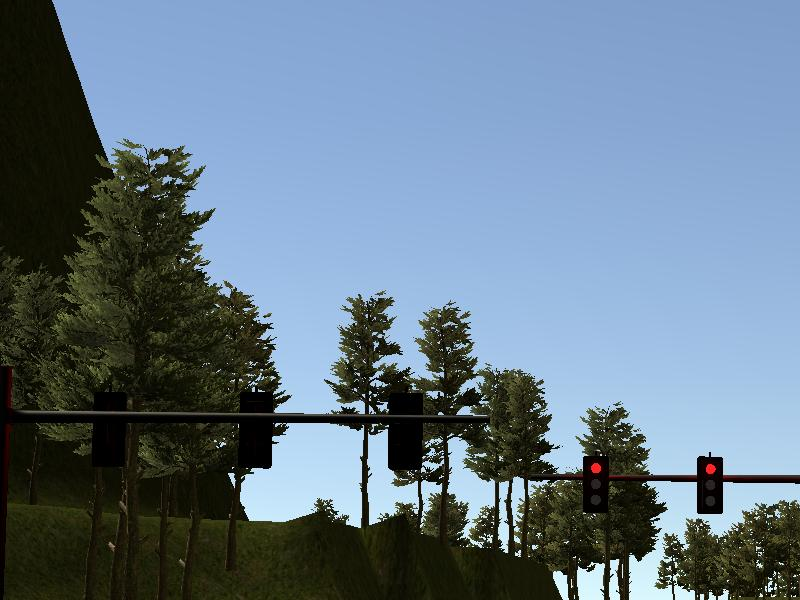Red: (698, 455, 723, 515), (582, 457, 607, 513)
